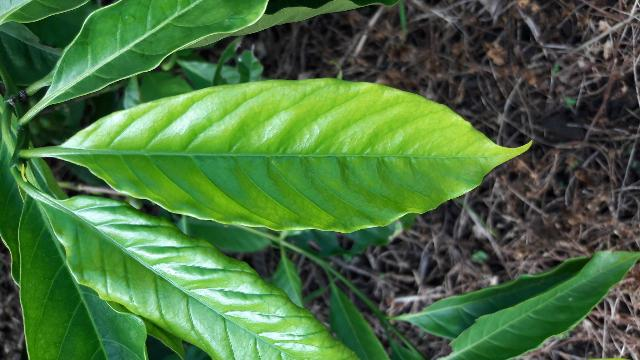healthy: (62, 82, 526, 234)
